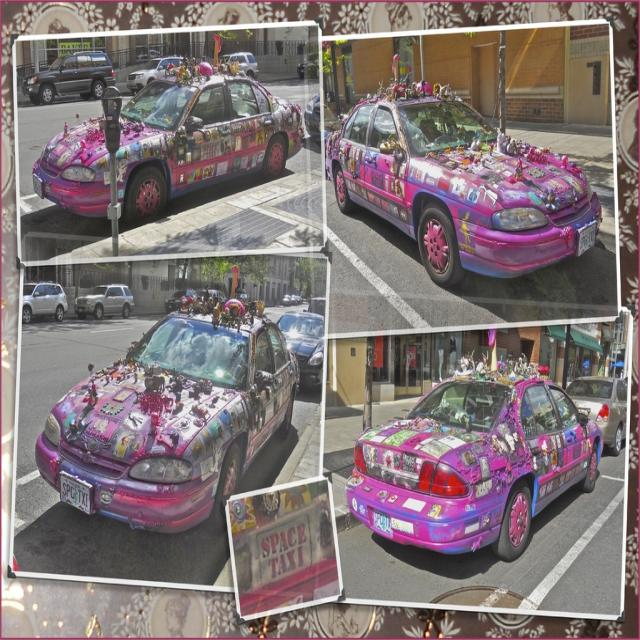car: (74, 281, 133, 317)
